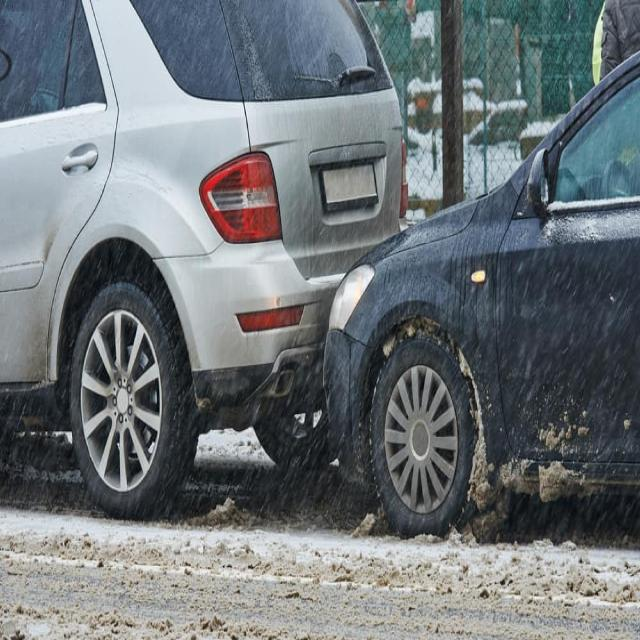Accident: (5, 1, 640, 547)
